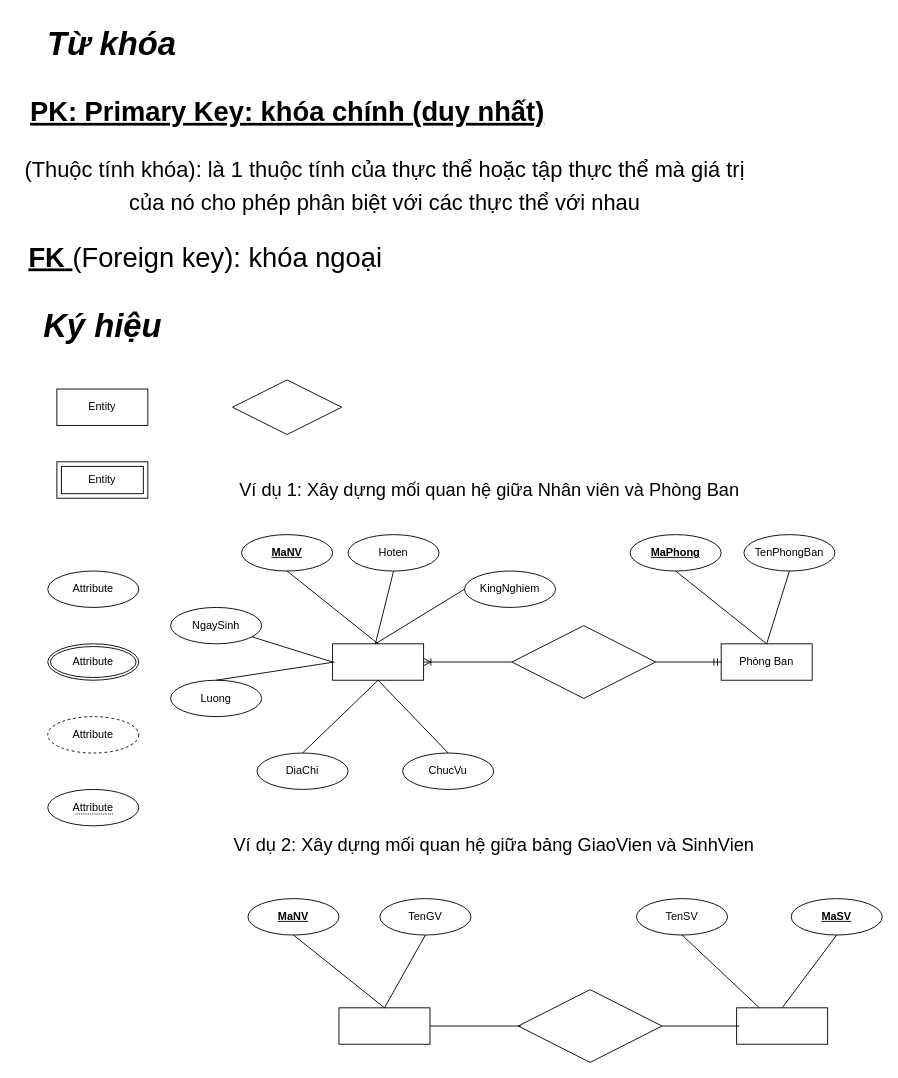
The diagram is 898 pixels wide and 1078 high, and some of its shapes have lost their labels. Each missing label, with the centre of its shape:
CÓ: the point at 589,1025
GiaoVien: the point at 384,1025
Nhân Viên: the point at 378,661
Relationship: the point at 287,407
SinhVien: the point at 782,1025
THUỘC VỀ: the point at 583,661
